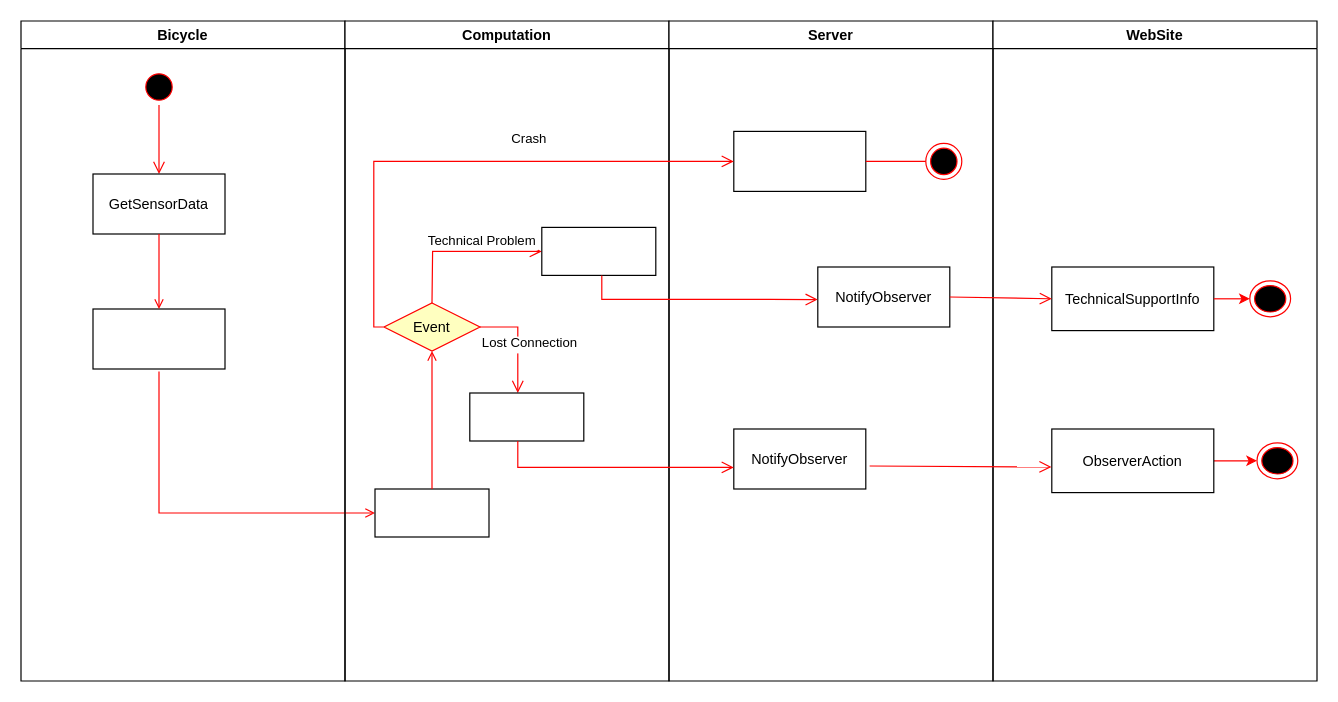
This 1338x702 diagram has some shape labels left out. Each missing label, with the centre of its shape:
"EmergencyCall" belongs at (x=799, y=160).
"FaultDetails" belongs at (x=598, y=250).
"GetRouteData" belongs at (x=526, y=416).
"SendSensorData" belongs at (x=158, y=338).
"SensorInfo" belongs at (x=431, y=512).
